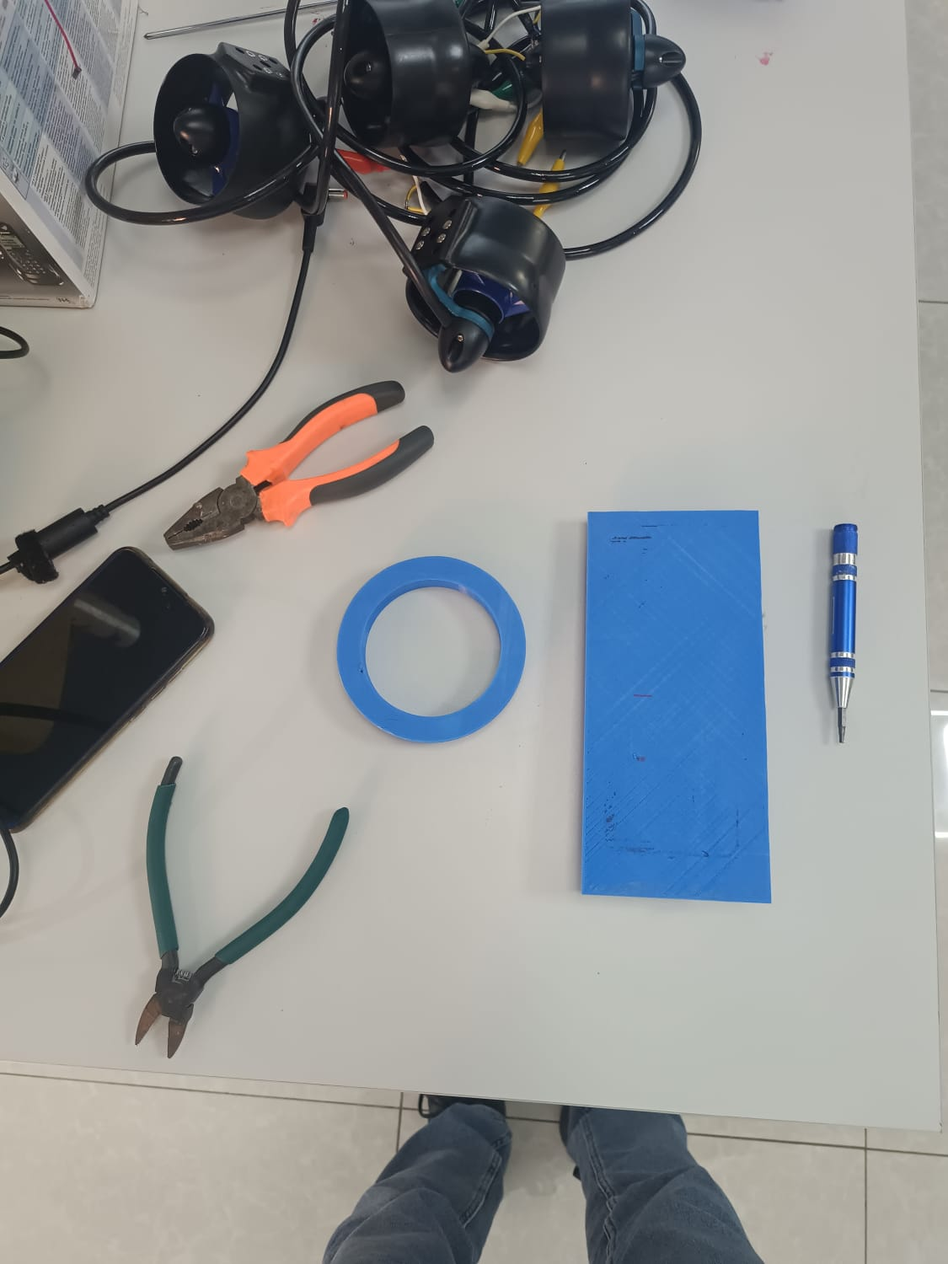Circle: (329, 542, 532, 755)
Rectangular: (574, 502, 778, 905)
